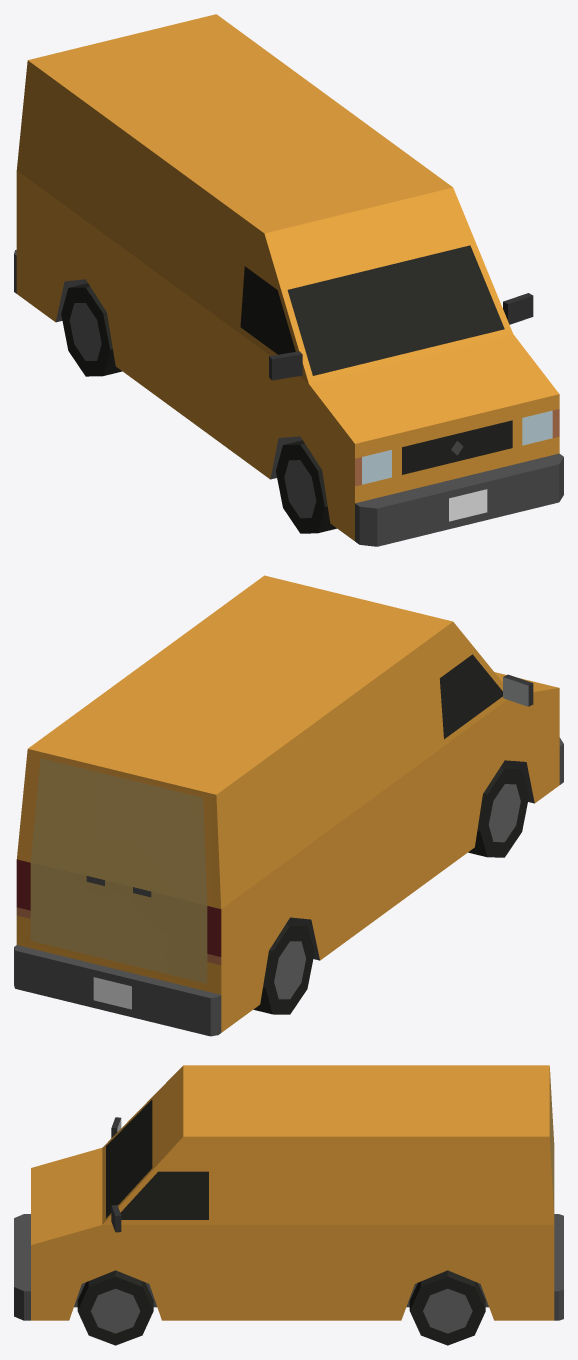
The model's file is Veh_Van_03_Yellow.glb.
The picture shows the model from 3 angles, top to bottom: view 1: azimuth 30°, elevation 25°; view 2: azimuth 150°, elevation 25°; view 3: azimuth 270°, elevation 25°; orthographic projection. The views are drawn at different scales.
Visible parts, largest first — view 1: Van_03_Yellow, Wheel_FR, Wheel_RR; view 2: Van_03_Yellow, Wheel_FR, Wheel_RR; view 3: Van_03_Yellow, Wheel_FL, Wheel_RL.
Part boxes in pixels (left/top/right/bottom): Van_03_Yellow: left=14, top=14, right=563, bottom=546; Wheel_FR: left=276, top=440, right=336, bottom=533; Wheel_RR: left=61, top=283, right=122, bottom=376; Van_03_Yellow: left=14, top=575, right=563, bottom=1036; Wheel_FR: left=468, top=764, right=529, bottom=857; Wheel_RR: left=253, top=921, right=314, bottom=1014; Van_03_Yellow: left=14, top=1065, right=563, bottom=1320; Wheel_FL: left=77, top=1270, right=153, bottom=1345; Wheel_RL: left=409, top=1270, right=485, bottom=1345.
Bounding box in the file's own units: 1.41 × 1.37 × 3.31.
1 material, 1 textured.
